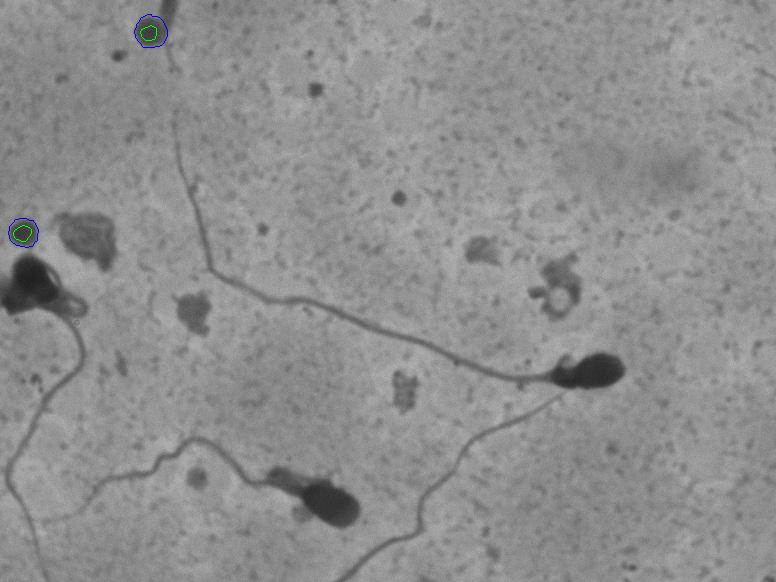Abnormal: (148, 95, 633, 403), (43, 408, 384, 541)
